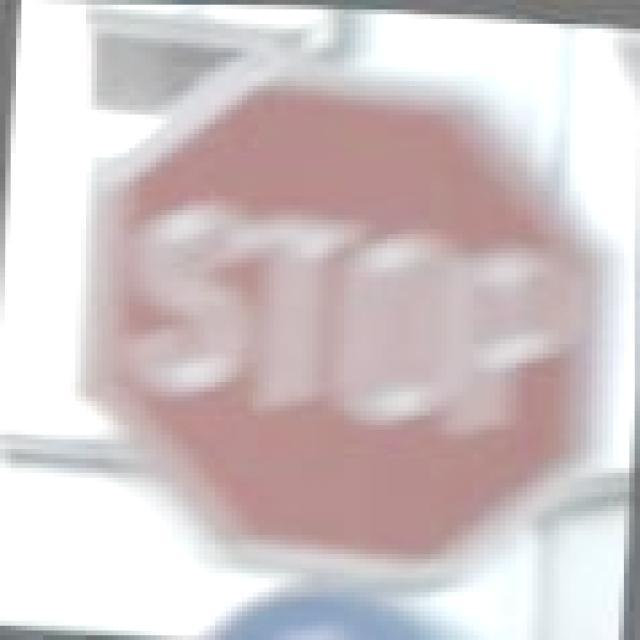stop_sign: (32, 48, 602, 606)
